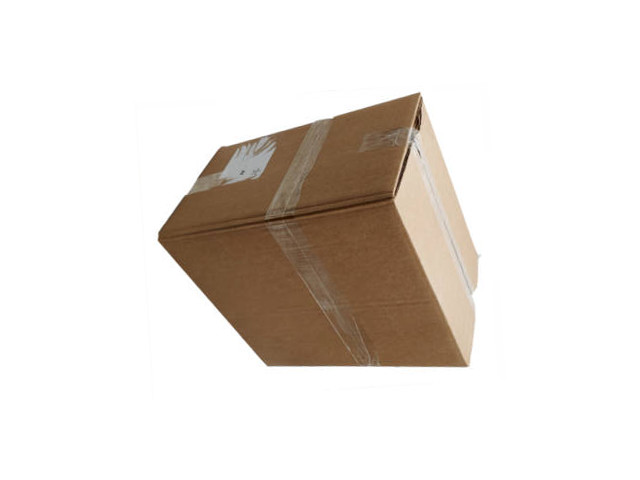cardboard: (156, 89, 475, 368)
